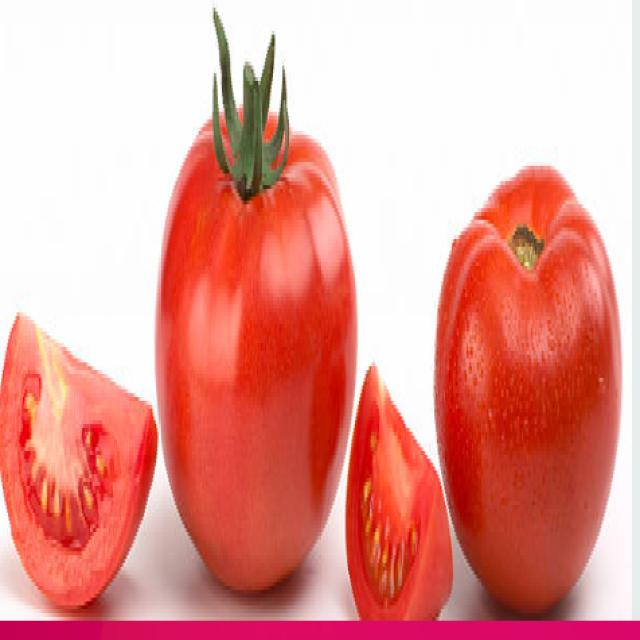Tomato: (158, 54, 368, 607), (440, 142, 625, 596), (0, 277, 161, 595), (344, 352, 454, 640)
